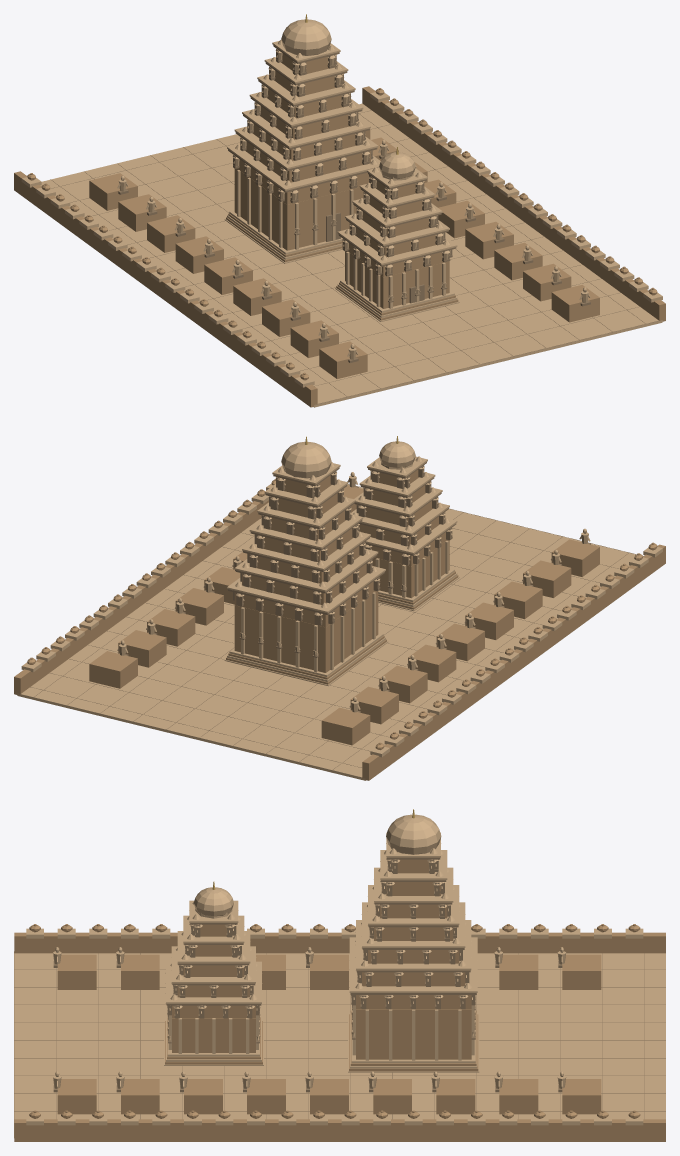
File: shore-temple.glb
3 views of the same model, one above another, from view 1: azimuth 30°, elevation 25°; view 2: azimuth 150°, elevation 25°; view 3: azimuth 270°, elevation 25° (orthographic). The views are drawn at different scales.
Visible parts, largest first — view 1: stoneLight, stone, stoneDark; view 2: stoneLight, stone, stoneDark; view 3: stoneLight, stone, stoneDark.
Boxes of the visible parts, x1,y1,x2,y2 form: stoneLight: (21, 19, 662, 407); stone: (14, 53, 665, 407); stoneDark: (50, 45, 661, 404); stoneLight: (17, 441, 662, 780); stone: (14, 470, 665, 780); stoneDark: (30, 462, 635, 769); stoneLight: (14, 814, 665, 1125); stone: (14, 859, 665, 1141); stoneDark: (14, 857, 665, 1137).
Bounding box in the file's own units: 43.4 × 25.05 × 62.02.
